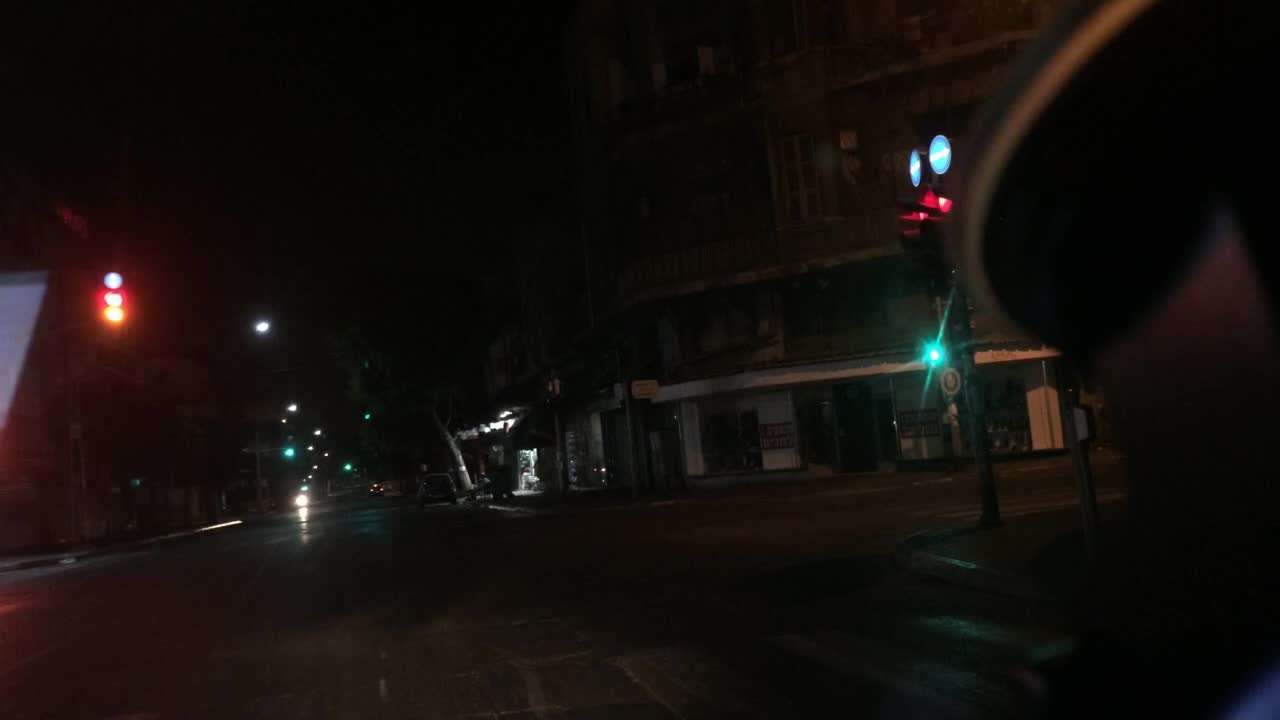car: (418, 470, 459, 506), (367, 482, 385, 495), (378, 479, 394, 489)
traffic light: (897, 221, 939, 277), (99, 286, 127, 324), (924, 346, 945, 362), (281, 447, 296, 458), (343, 464, 353, 472)
traffic sign: (1024, 387, 1065, 452), (925, 133, 956, 173), (906, 148, 927, 185), (938, 368, 964, 395), (632, 380, 657, 399), (103, 271, 124, 288)
